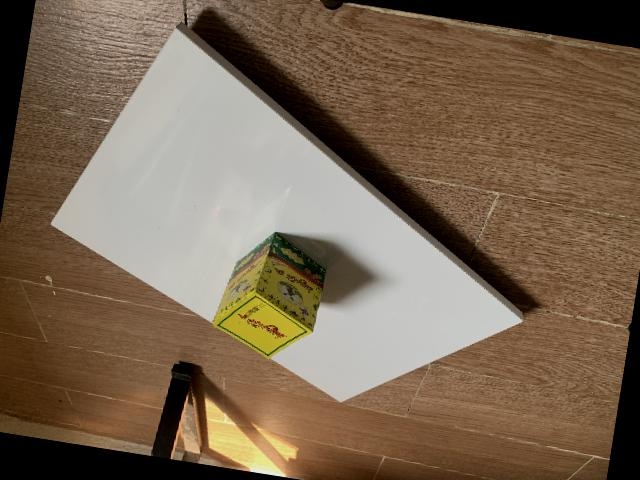luong_kho: (212, 230, 326, 355)
